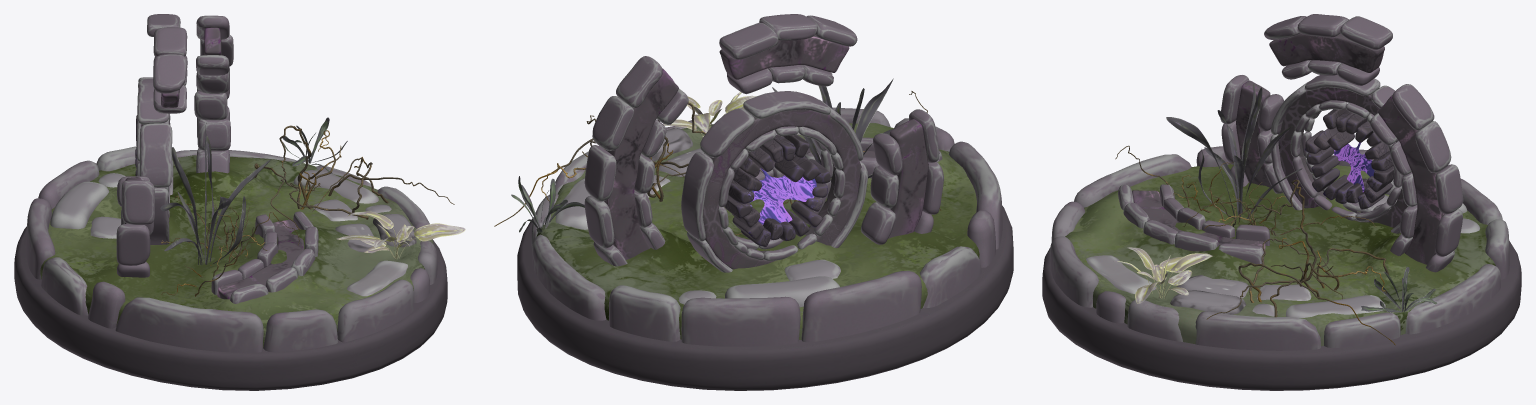
Rendered from portal_3D_Furniture_Store.glb.
3 renders of one model, left to right at view 1: azimuth 30°, elevation 25°; view 2: azimuth 150°, elevation 25°; view 3: azimuth 270°, elevation 25°, orthographic. The views are drawn at different scales.
Visible parts, largest first — view 1: Object_24, Object_6, Object_22, Object_16, Object_8, Object_14, Object_18, Object_12; view 2: Object_24, Object_22, Object_16, Object_6, Object_18, Object_20, Object_14, Object_10, Object_8, Object_12; view 3: Object_6, Object_24, Object_22, Object_16, Object_18, Object_20, Object_8, Object_14, Object_12, Object_10.
Boxes of the visible parts, left/top/right/bottom form: Object_24: left=26, top=146, right=437, bottom=352; Object_6: left=40, top=155, right=433, bottom=347; Object_22: left=116, top=14, right=318, bottom=303; Object_16: left=14, top=226, right=447, bottom=390; Object_8: left=161, top=125, right=454, bottom=296; Object_14: left=160, top=117, right=347, bottom=264; Object_18: left=125, top=27, right=304, bottom=299; Object_12: left=336, top=211, right=465, bottom=260; Object_24: left=531, top=107, right=1002, bottom=346; Object_22: left=584, top=14, right=943, bottom=272; Object_16: left=517, top=205, right=1013, bottom=390; Object_6: left=536, top=123, right=979, bottom=339; Object_18: left=604, top=35, right=928, bottom=269; Object_20: left=724, top=134, right=830, bottom=246; Object_14: left=511, top=78, right=893, bottom=233; Object_10: left=749, top=168, right=816, bottom=224; Object_8: left=494, top=91, right=940, bottom=235; Object_12: left=663, top=92, right=756, bottom=136; Object_6: left=1065, top=164, right=1495, bottom=346; Object_24: left=1049, top=146, right=1509, bottom=350; Object_22: left=1118, top=14, right=1463, bottom=272; Object_16: left=1042, top=241, right=1521, bottom=390; Object_18: left=1132, top=33, right=1444, bottom=264; Object_20: left=1304, top=108, right=1394, bottom=209; Object_8: left=1115, top=145, right=1395, bottom=345; Object_14: left=1166, top=83, right=1437, bottom=312; Object_12: left=1115, top=247, right=1212, bottom=303; Object_10: left=1333, top=142, right=1374, bottom=192.
Bounding box in the file's own units: 12.41 × 8.27 × 13.54.
10 materials, 10 textured.
